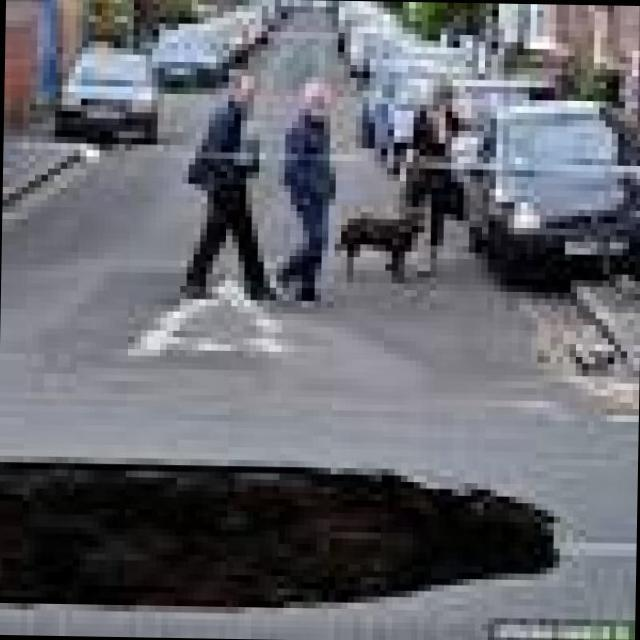pothole: (2, 452, 590, 610)
